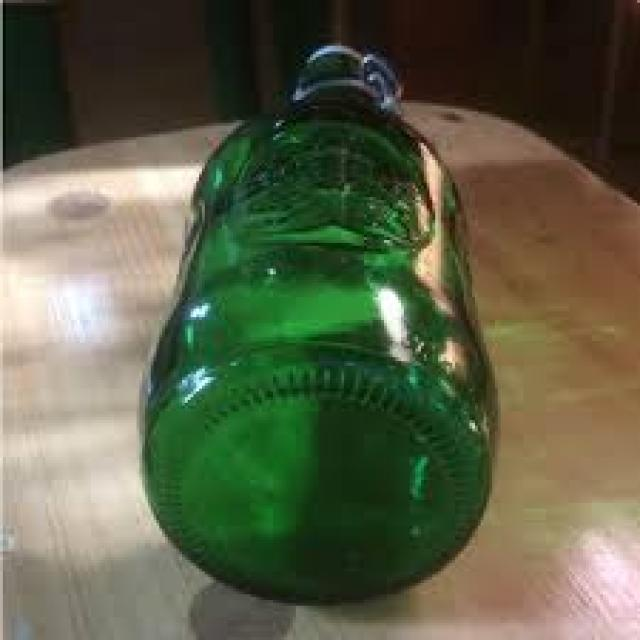glass: (136, 46, 495, 603)
